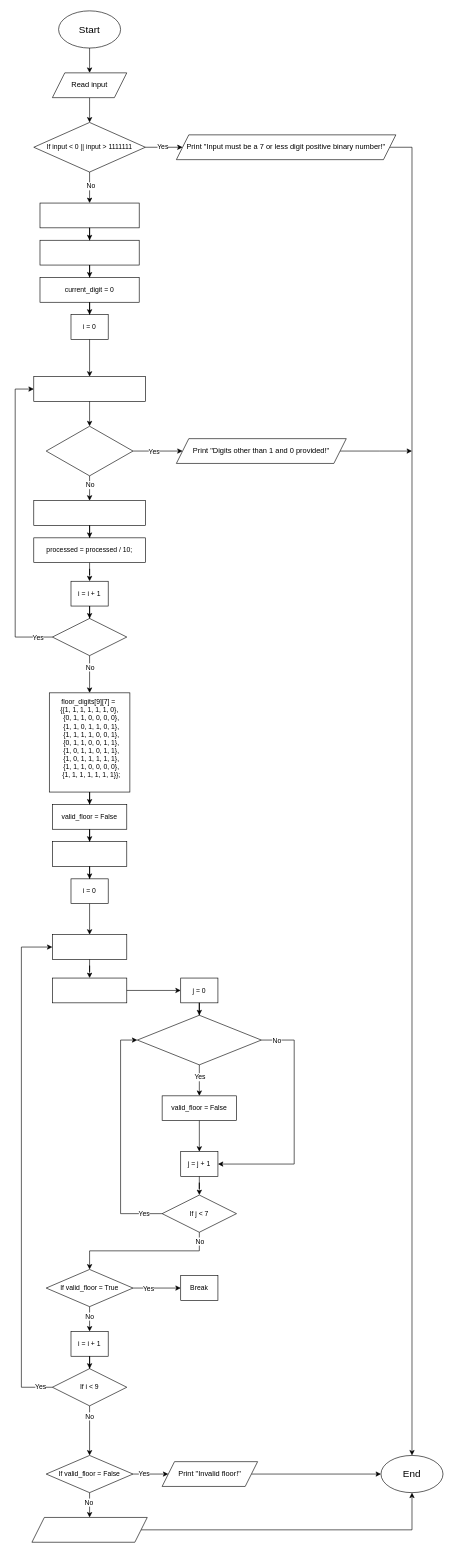
The diagram is 454 pixels wide and 1553 high, and some of its shapes have lost their labels. The shapes that lost their labels are listed below. From the top down, each one's centre as x and y in pixels, then its label:
point (89, 215): digits[7] = {0,0,0,0,0,0,0}
point (89, 252): processed = input
point (89, 388): current_digit = processed % 10
point (89, 451): If current_digit > 1
point (89, 512): digits[6 - i] = current_digit
point (89, 637): If i < 7
point (89, 853): floor = -1
point (89, 946): valid_floor = True
point (89, 990): floor = i
point (199, 1040): If digits[j] != floor_digits[i][j]
point (89, 1529): Print "Your floor is ", floor
